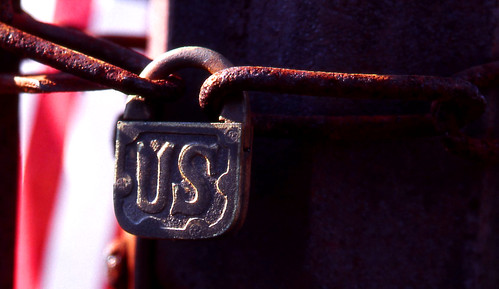lock: (102, 38, 284, 247)
